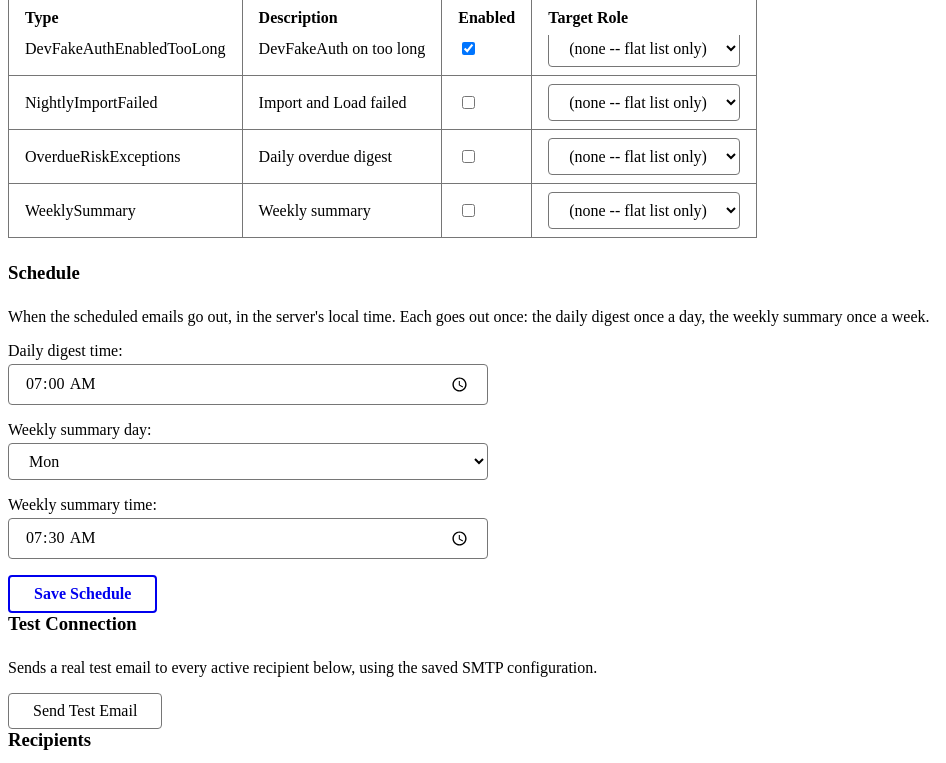
Test: Notifications.vue › saves the schedule, and shows the server's reason when it is refused
(page scrolled)
Replace the text in the time field labelled "Daily digest time:" with "06:45" at (248, 384), box top-left (8, 364), bottom-right (488, 405)
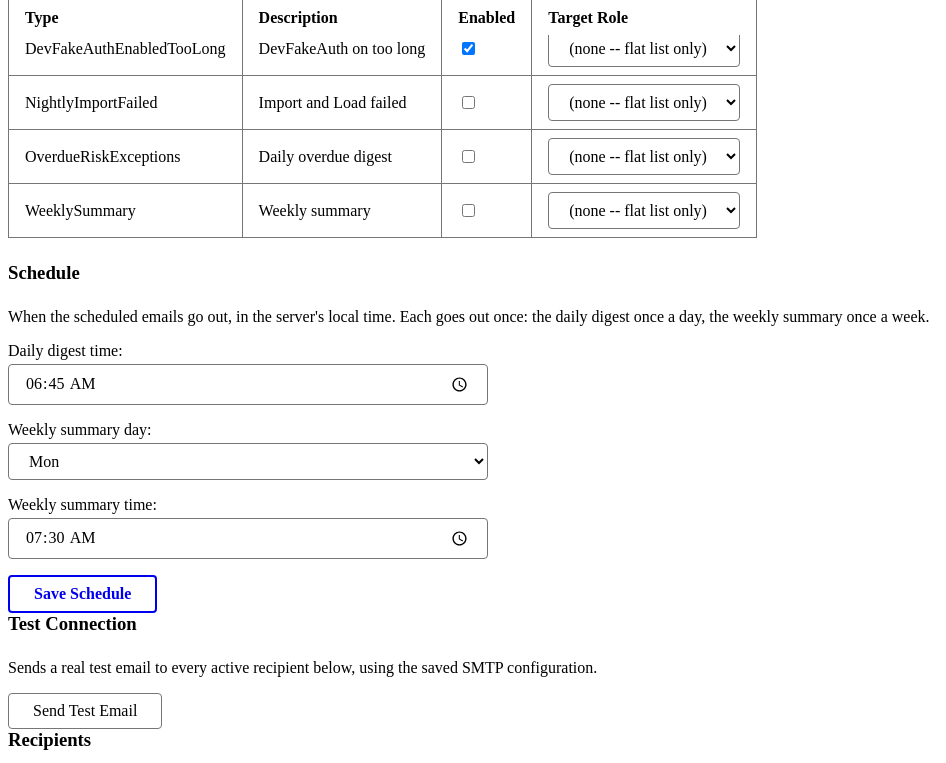
Submit the form, box top-left (8, 342), bottom-right (488, 613)
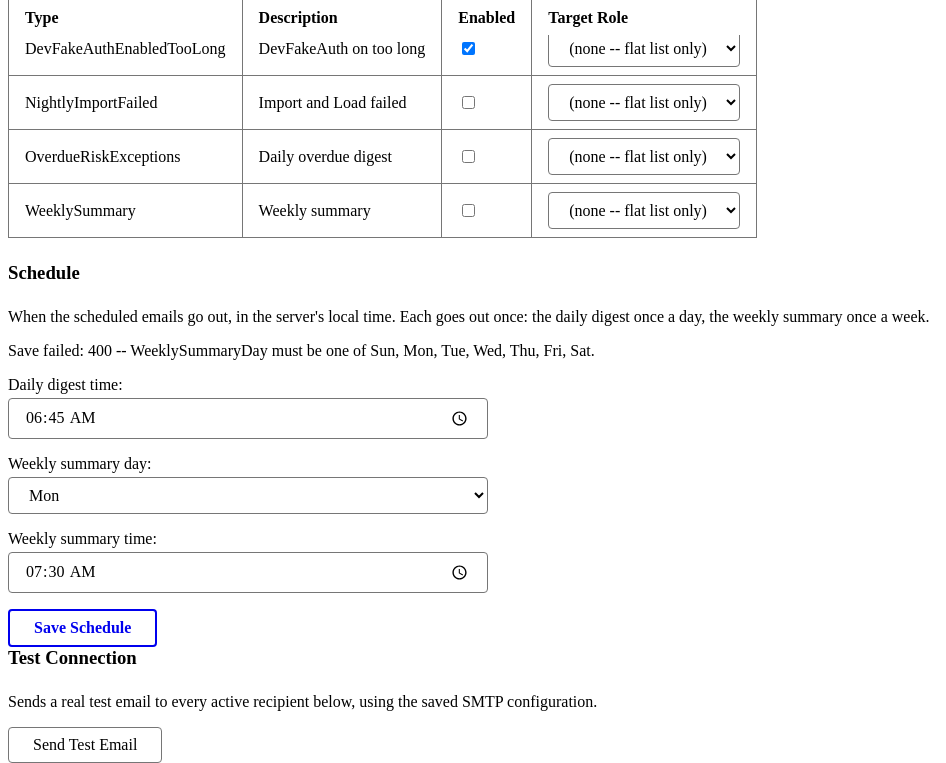
Check: the text "Save failed: 400 -- WeeklySummaryDay must be one of" is shown, box top-left (8, 342), bottom-right (595, 359)
